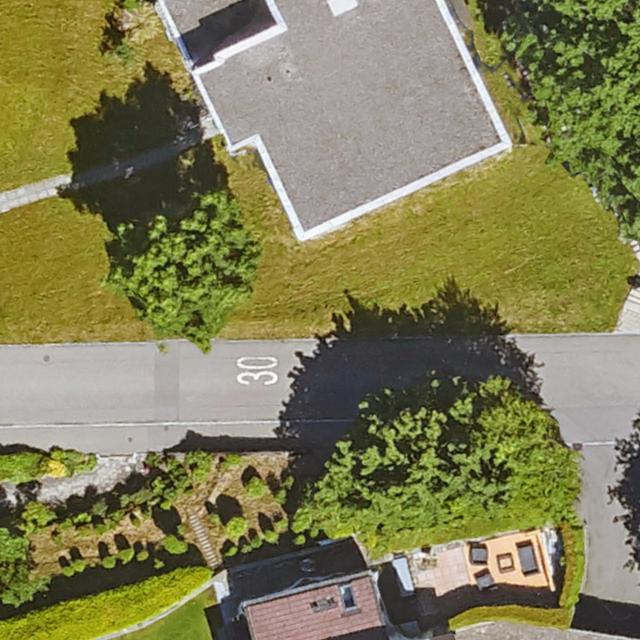tree: (320, 373, 493, 531), (118, 197, 256, 337), (548, 0, 640, 174), (459, 376, 566, 514)
